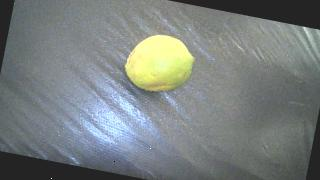DESECHO: (121, 29, 198, 98)
